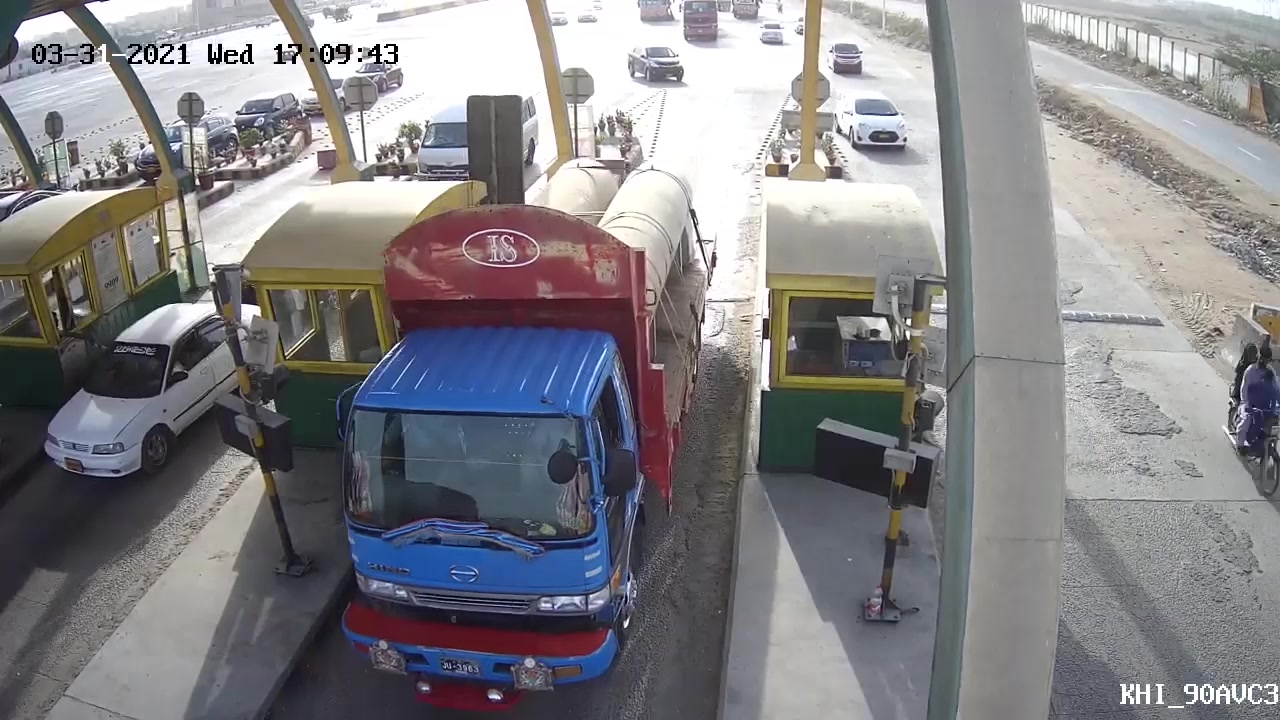F5: (325, 148, 723, 709)
